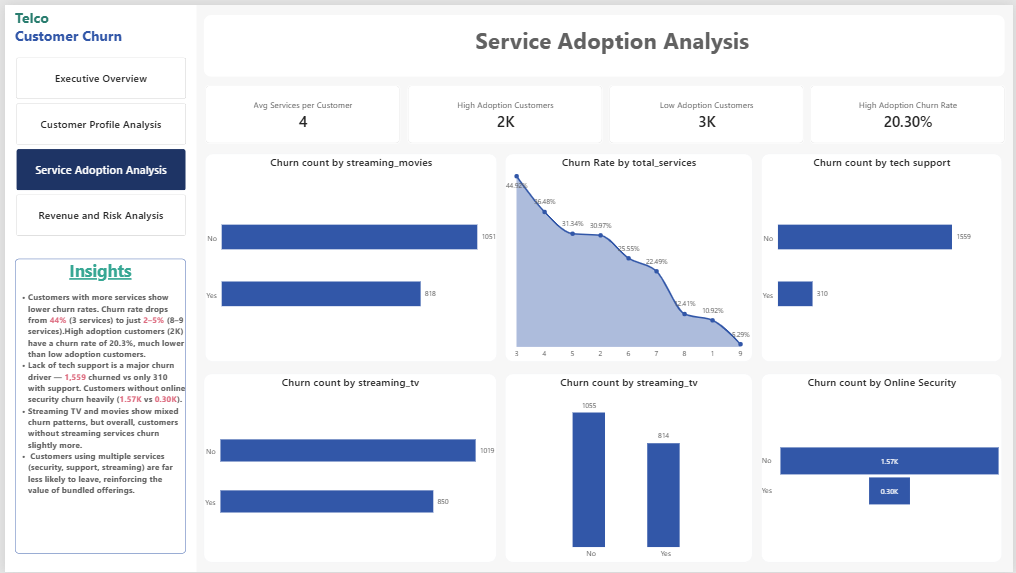

What the dashboard file says about the page in this screenshot:
{"tool":"powerbi","page":{"name":"Service Adoption Analysis ","canvas":[1920,1080],"ordinal":2},"visuals":[{"type":"funnel","title":"Churn count by Online Security","fields":{"Category":["public customer.online_security"],"Y":["CountNonNull(public customer.churn)"]},"box":[1441.1,703.1,458.3,358.9],"z":0},{"type":"barChart","title":"Churn count by tech support","fields":{"Category":["public customer.tech_support"],"Y":["CountNonNull(public customer.churn)"]},"box":[1441.1,283.4,458.3,395.7],"z":1000},{"type":"columnChart","title":"Churn count by streaming_tv","fields":{"Category":["public customer.streaming_tv"],"Y":["CountNonNull(public customer.churn)"]},"box":[951.5,703.1,471.2,358.9],"z":2000},{"type":"barChart","title":"Churn count by streaming_movies","fields":{"Category":["public customer.streaming_movies"],"Y":["CountNonNull(public customer.churn)"]},"box":[381,283.4,555.8,395.7],"z":3000},{"type":"barChart","title":"Churn count by streaming_tv","fields":{"Category":["public customer.multiple_lines"],"Y":["CountNonNull(public customer.churn)"]},"box":[379.1,703.1,557.7,358.9],"z":4000},{"type":"lineChart","fields":{"Category":["public customer.total_services"],"Y":["Measure Table.Churn Rate"]},"box":[951.5,283.4,471.2,395.7],"z":5000},{"type":"shape","box":[0,0,364.4,1080.4],"z":6000},{"type":"textbox","box":[18.4,3.7,323.9,95.7],"z":7000},{"type":"pageNavigator","box":[20.2,99.4,323.9,342.3],"z":8000},{"type":"shape","box":[379.1,18.4,1525.8,117.8],"z":9000},{"type":"textbox","box":[410.4,38.7,1494.5,73.6],"z":10000},{"type":"cardVisual","title":"Total Customers","fields":{"Data":["Measure Table.Avg Services"]},"box":[381,152,372,112.3],"z":11000},{"type":"cardVisual","title":"Total Customers","fields":{"Data":["Measure Table.High Adoption Customers"]},"box":[766,152,372,112.3],"z":12000},{"type":"cardVisual","title":"Total Customers","fields":{"Data":["Measure Table.Low Adoption Customers"]},"box":[1149,152.8,372,112.3],"z":13000},{"type":"cardVisual","title":"Total Customers","fields":{"Data":["Measure Table.High Adoption Churn Rate"]},"box":[1533,152,372,112.3],"z":14000},{"type":"textbox","box":[18.4,484.1,325.8,561.4],"z":15000}]}

Visuals, with their boxes in screenshot pixels (x1, y1, x2, y2), scaled from the page's 1920x1080 canvas onto the 1016x573 screenshot:
"Churn count by Online Security" funnel: <box>763,373,1005,563</box>
"Churn count by tech support" barChart: <box>763,150,1005,360</box>
"Churn count by streaming_tv" columnChart: <box>504,373,753,563</box>
"Churn count by streaming_movies" barChart: <box>202,150,496,360</box>
"Churn count by streaming_tv" barChart: <box>201,373,496,563</box>
lineChart - public customer.total_services x Measure Table.Churn Rate: <box>504,150,753,360</box>
shape: <box>0,0,193,572</box>
textbox: <box>10,2,181,53</box>
pageNavigator: <box>11,53,182,234</box>
shape: <box>201,10,1008,72</box>
textbox: <box>217,21,1008,60</box>
"Total Customers" cardVisual: <box>202,81,398,140</box>
"Total Customers" cardVisual: <box>405,81,602,140</box>
"Total Customers" cardVisual: <box>608,81,805,141</box>
"Total Customers" cardVisual: <box>811,81,1008,140</box>
textbox: <box>10,257,182,555</box>
